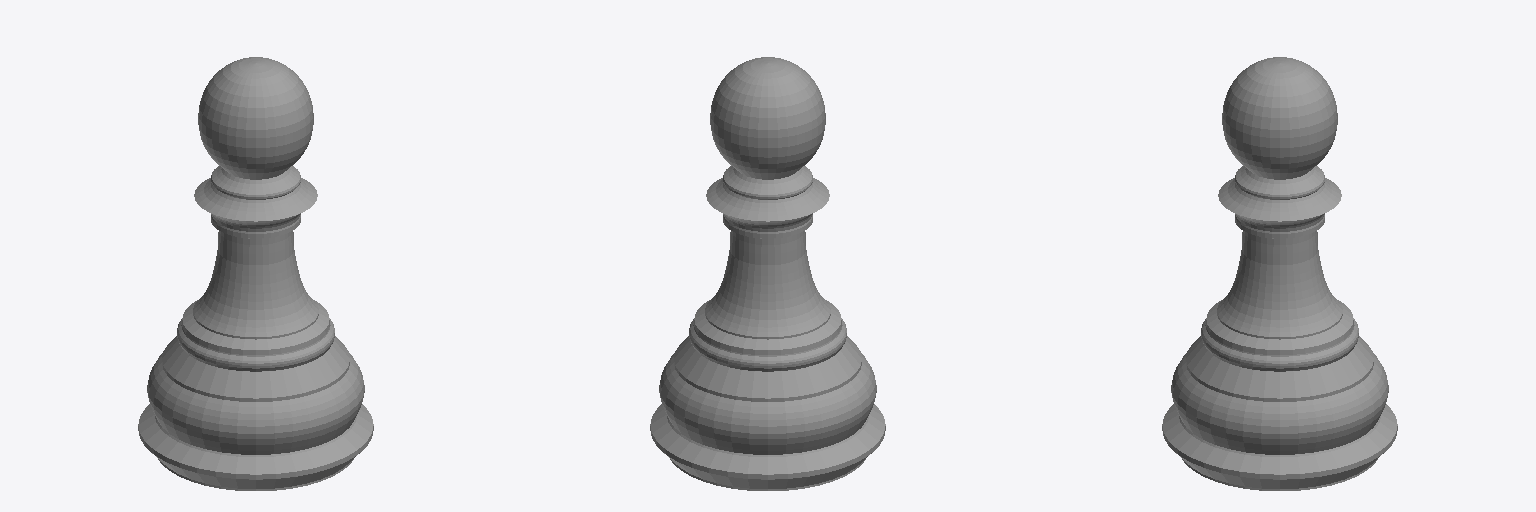
Rendered from Pawn.obj.
3 views of the same model, side by side, from view 1: azimuth 30°, elevation 25°; view 2: azimuth 150°, elevation 25°; view 3: azimuth 270°, elevation 25° (orthographic).
Visible parts, largest first — view 1: Plane; view 2: Plane; view 3: Plane.
Boxes of the visible parts, <box> form: Plane: <box>138,57,373,490</box>; Plane: <box>650,57,885,490</box>; Plane: <box>1162,57,1397,490</box>.
Bounding box in the file's own units: 4.97 × 8.99 × 4.97.